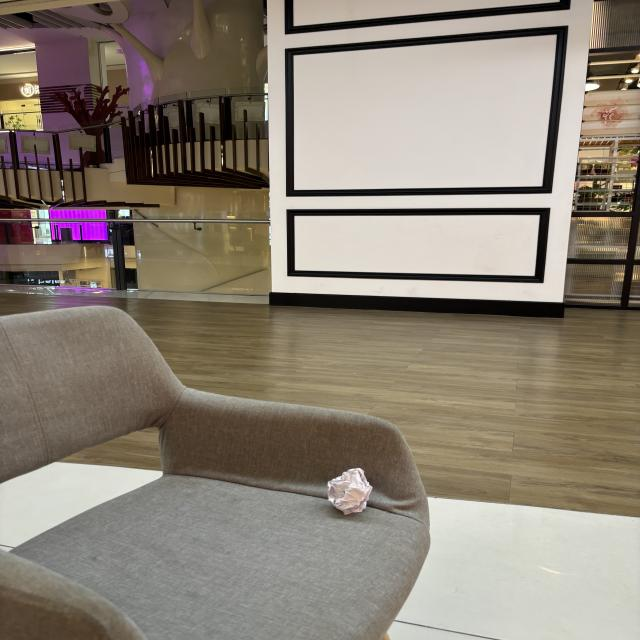crumpled_paper: (322, 462, 376, 521)
